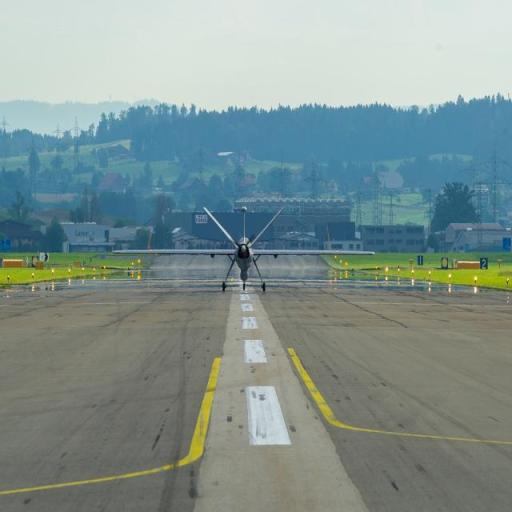uav: (102, 197, 378, 307)
